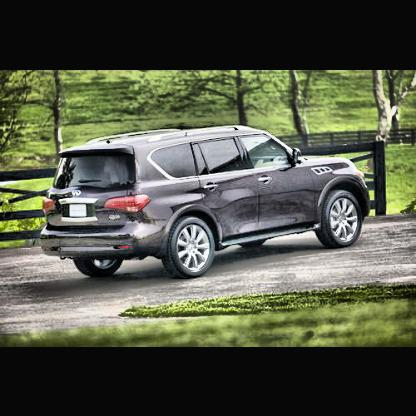Infiniti QX56 SUV 2011: (37, 122, 373, 280)
